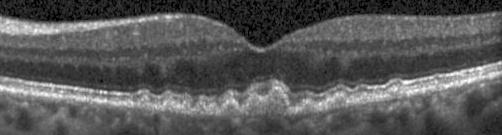retinal_drusen: (245, 89, 287, 117), (156, 94, 181, 111), (221, 100, 241, 117), (349, 91, 369, 106), (327, 95, 347, 109), (136, 94, 153, 110), (388, 84, 404, 99), (301, 103, 319, 116), (194, 100, 207, 115), (208, 102, 219, 115), (182, 98, 190, 113)
